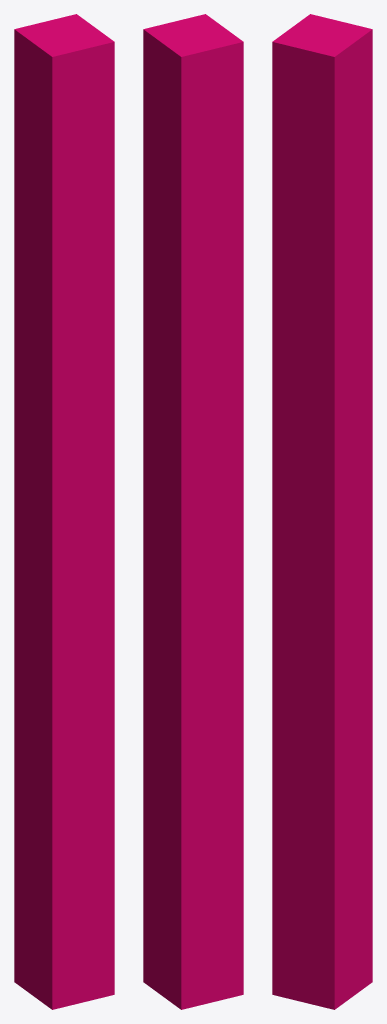
File: R_01_Pillar_02.fbx
3 renders of one model, left to right at view 1: azimuth 30°, elevation 25°; view 2: azimuth 210°, elevation 25°; view 3: azimuth 330°, elevation 25°, orthographic.
Parts seen in each view (by area): view 1: R_01_Pillar_02; view 2: R_01_Pillar_02; view 3: R_01_Pillar_02.
Boxes of the visible parts, x1=… form: R_01_Pillar_02: x1=14, y1=14, x2=114, y2=1009; R_01_Pillar_02: x1=143, y1=14, x2=243, y2=1009; R_01_Pillar_02: x1=272, y1=14, x2=372, y2=1009.
Size of the model in its own units: 28.04 by 409 by 29.62.
